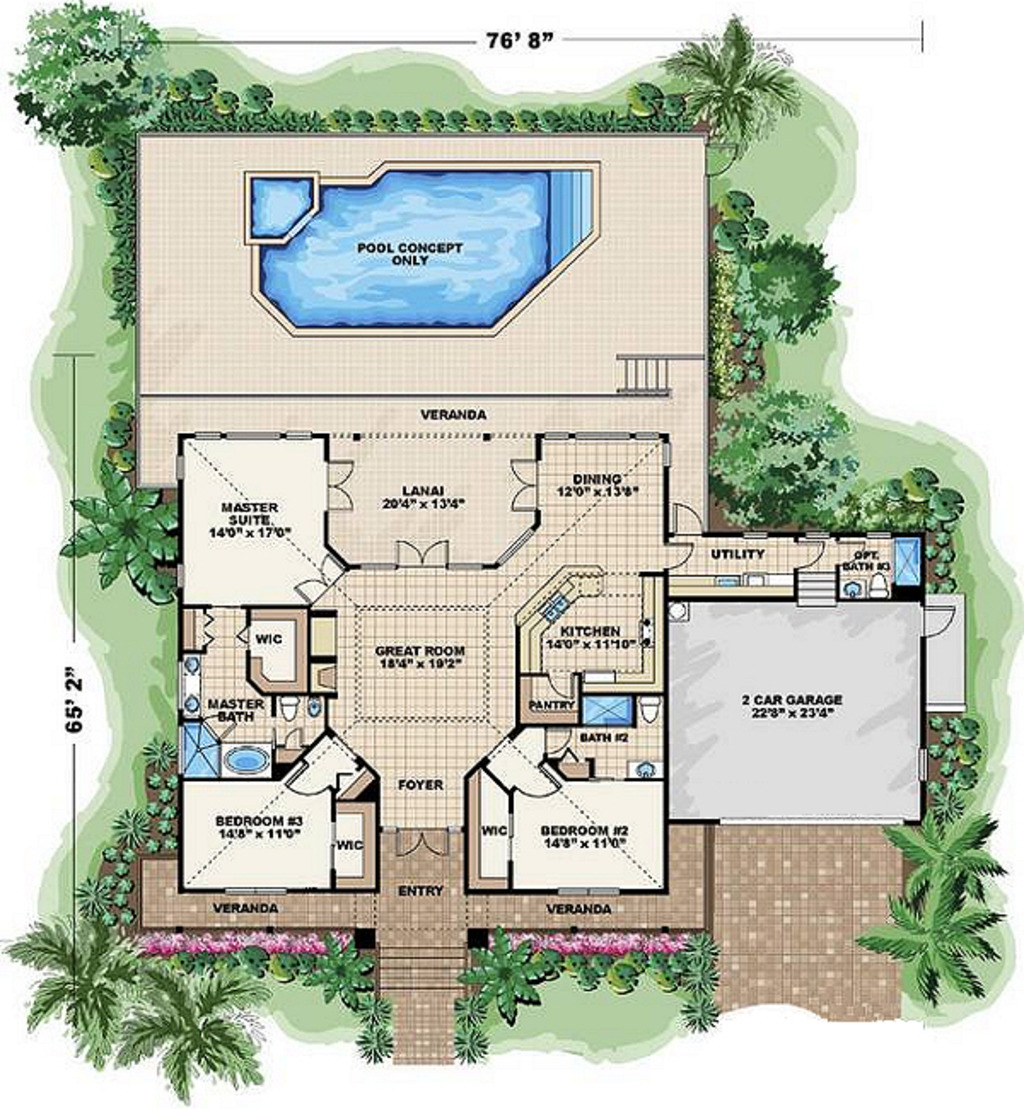door: (291, 557, 346, 605), (392, 822, 451, 861), (508, 451, 542, 518), (322, 456, 358, 514), (286, 757, 326, 805), (514, 762, 560, 803), (395, 540, 455, 567), (668, 498, 702, 534), (793, 538, 825, 569), (925, 607, 956, 638), (664, 540, 694, 571)
stairs: (608, 351, 706, 404)
tub: (219, 738, 269, 785)
